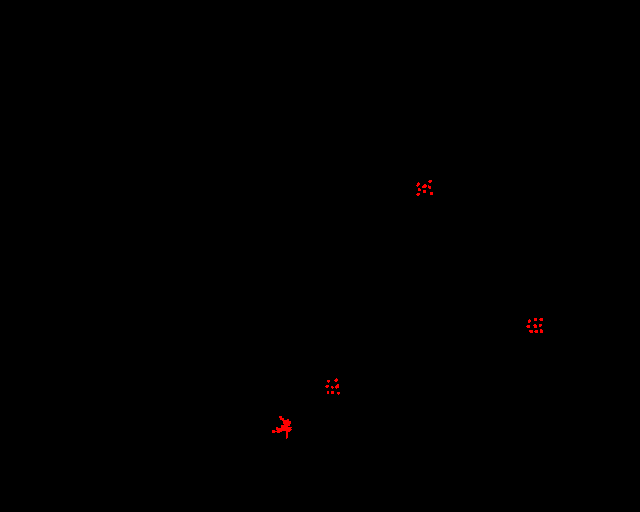Target: (272, 416, 292, 439), (416, 182, 420, 187), (422, 184, 427, 188), (335, 384, 339, 389), (533, 324, 537, 328), (334, 378, 338, 382), (428, 180, 432, 183), (428, 185, 431, 189), (416, 193, 420, 196), (539, 318, 543, 321), (528, 319, 531, 323), (526, 325, 530, 328), (540, 329, 543, 333), (529, 330, 533, 333), (534, 330, 538, 333), (325, 385, 329, 388), (418, 188, 421, 191), (423, 190, 426, 193), (430, 192, 433, 195), (534, 318, 537, 321), (539, 324, 542, 327), (327, 380, 330, 383), (331, 386, 334, 389), (331, 391, 334, 394), (337, 392, 340, 395), (327, 391, 329, 394)
